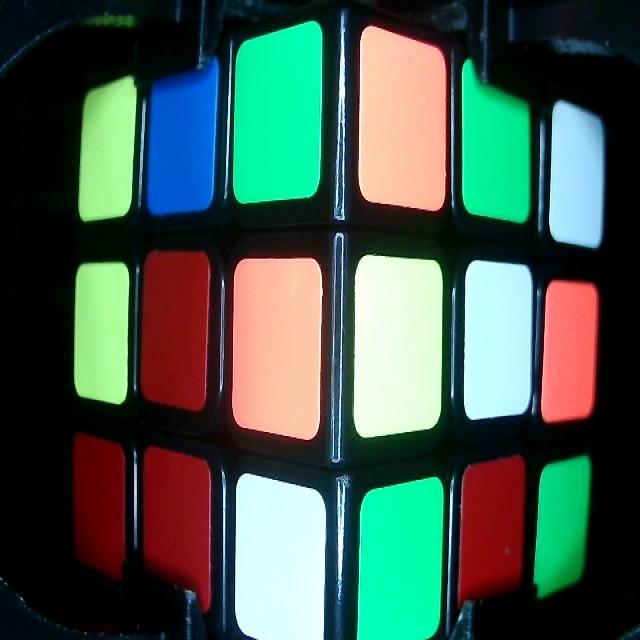b: (150, 60, 217, 208)
g: (235, 24, 324, 203), (364, 479, 444, 634), (462, 56, 531, 219), (536, 457, 592, 592)
o: (362, 28, 446, 206), (235, 259, 320, 431), (548, 284, 594, 420)
r: (144, 448, 210, 605), (460, 459, 525, 614), (143, 254, 205, 398), (76, 436, 124, 570)
w: (237, 475, 323, 638), (466, 259, 534, 412), (550, 99, 604, 248)
y: (357, 259, 441, 421), (79, 77, 137, 214), (74, 264, 130, 396)
